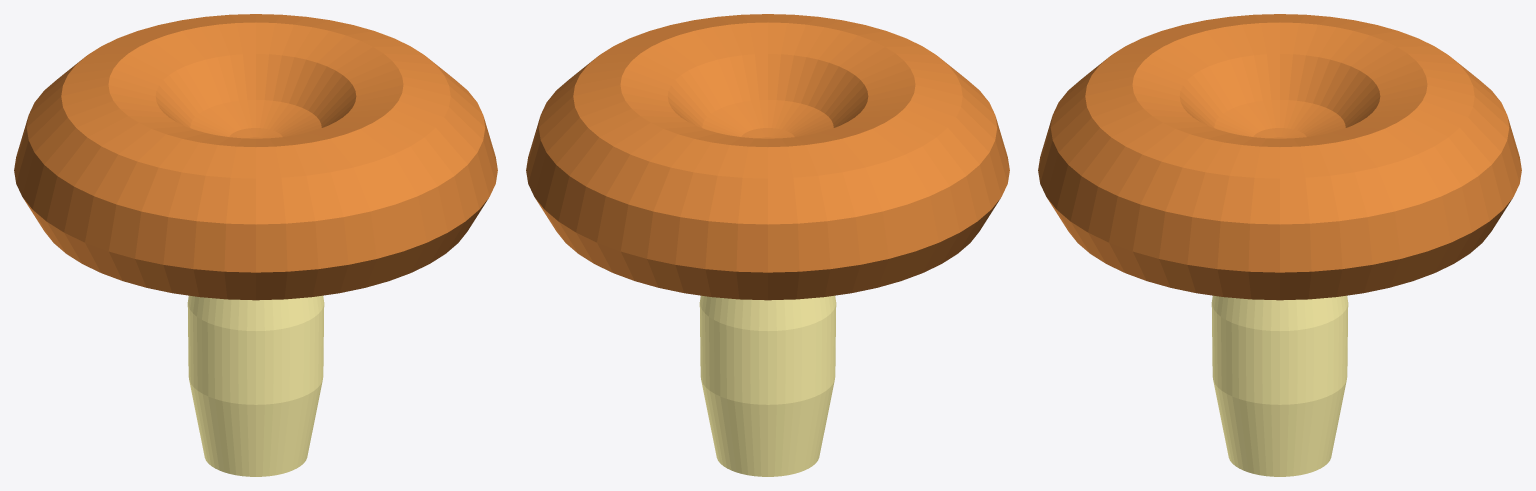
Rendered from redbome8.fbx.
3 renders of one model, left to right at view 1: azimuth 30°, elevation 25°; view 2: azimuth 150°, elevation 25°; view 3: azimuth 270°, elevation 25°, orthographic.
Parts seen in each view (by area): view 1: Red pine mushroom; view 2: Red pine mushroom; view 3: Red pine mushroom.
Boxes of the visible parts, box(x1,y1,x2,y2) form: Red pine mushroom: box(14, 14, 497, 476); Red pine mushroom: box(526, 14, 1009, 476); Red pine mushroom: box(1038, 14, 1521, 476).
Bounding box in the file's own units: 81.92 × 69.18 × 81.92.
